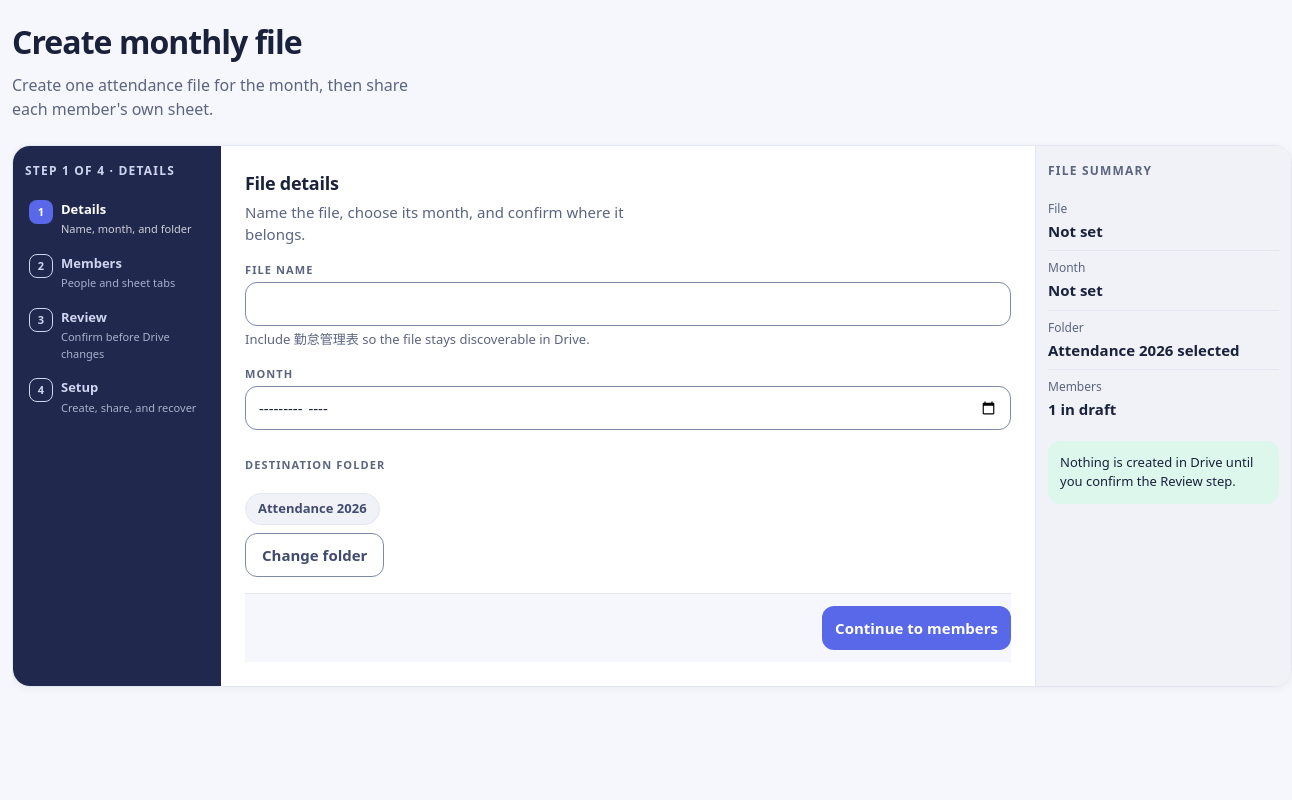
NewFileWizard — file details validation › requires a file name
Expected: the text "Attendance 2026" is shown, [245,493,380,525]
In the field labelled "Month": (628, 408) [245,386,1011,430], type "2026-07"
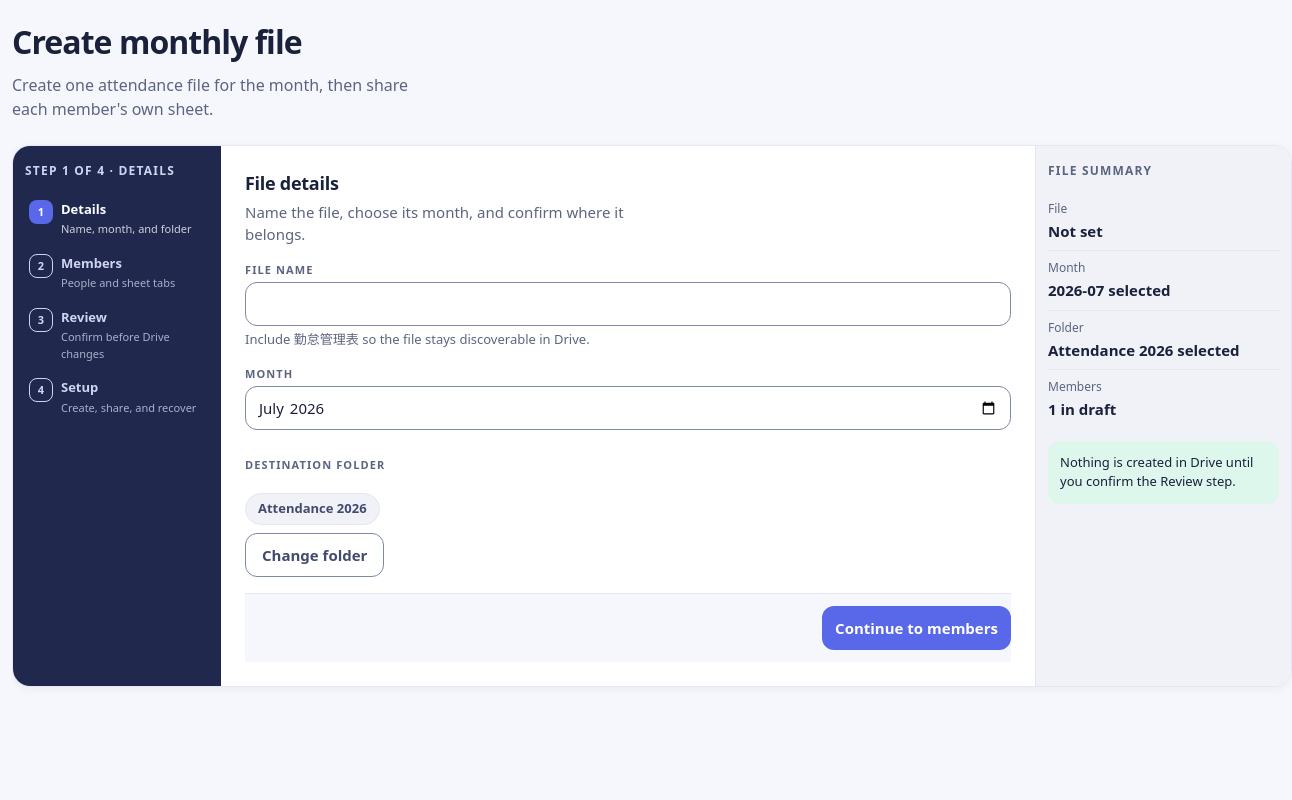
Click the button "Continue to members": (917, 628) [822,606,1011,650]
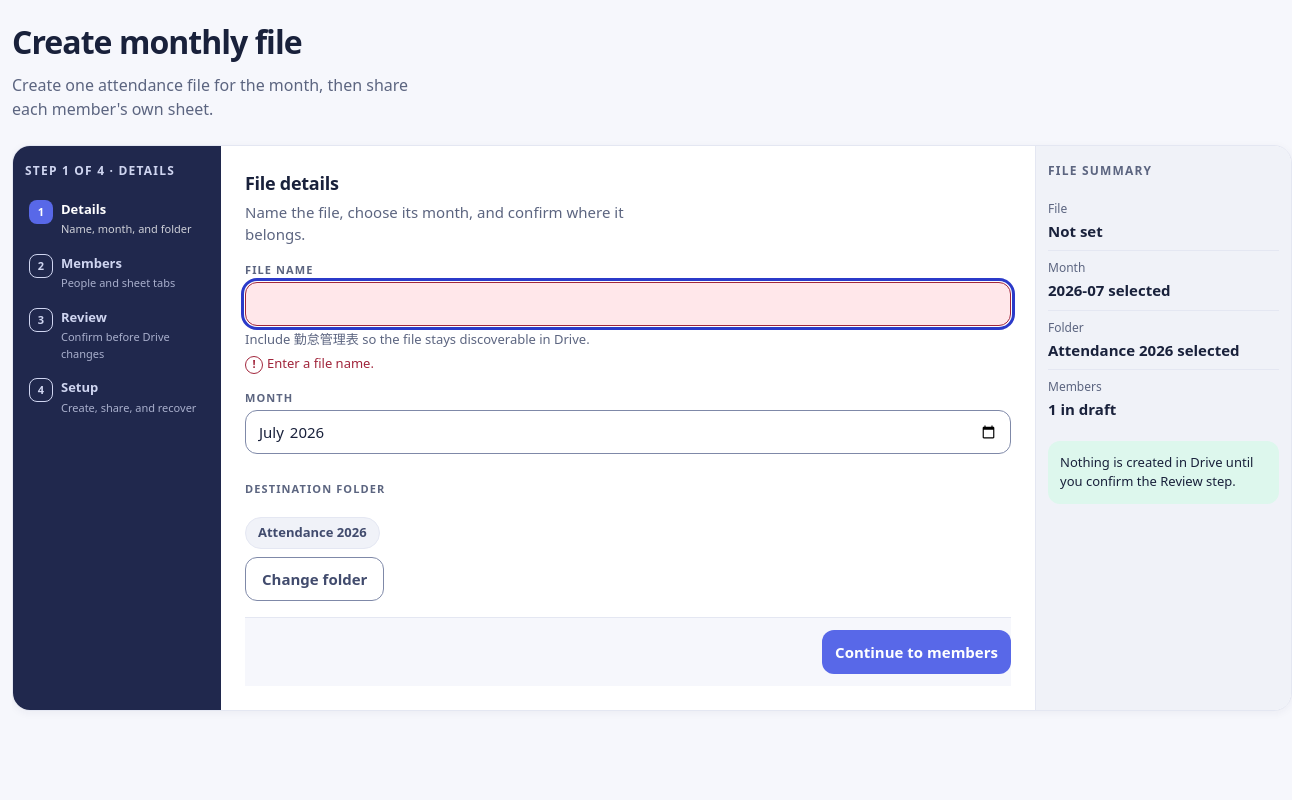
Now the text "Enter a file name." is shown, box [267,354,374,372]
